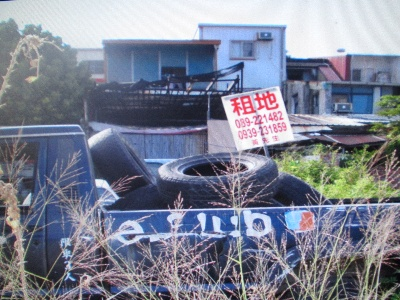tire: (158, 151, 281, 202), (85, 129, 157, 194)
